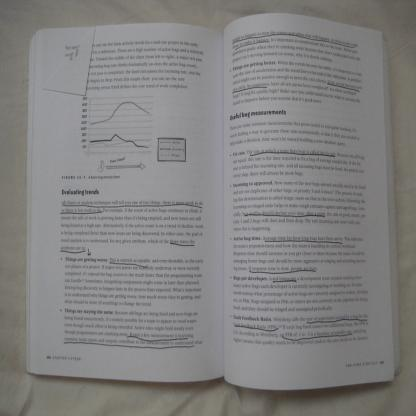book: (40, 8, 416, 393)
